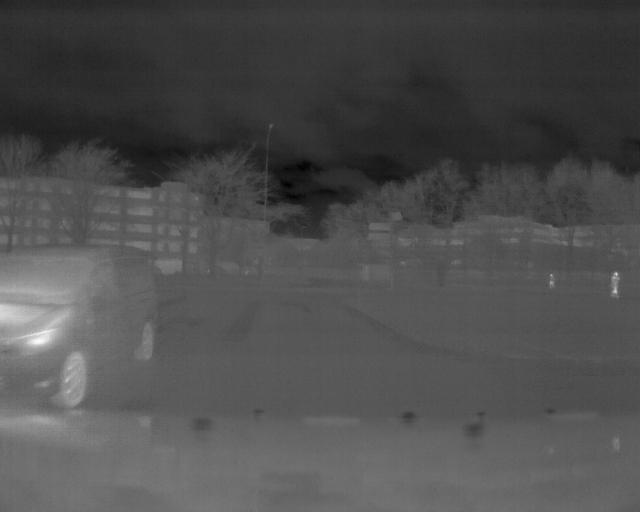car: (1, 240, 169, 411)
person: (608, 269, 620, 300), (547, 270, 554, 290)
